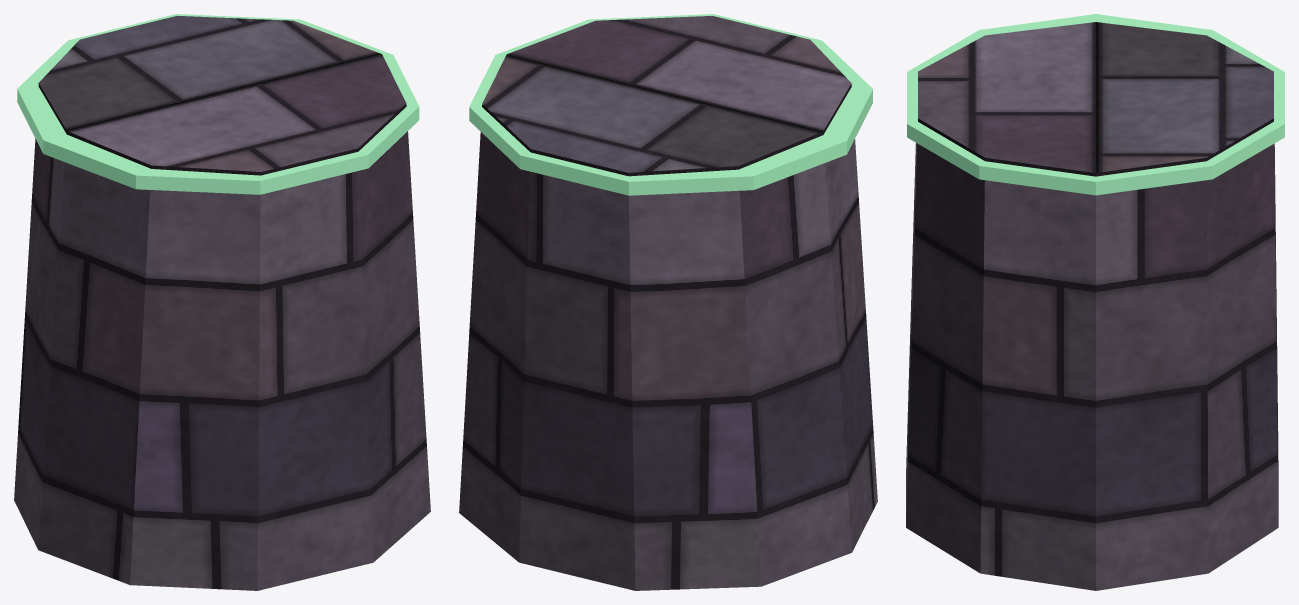
Rendered from dun_stone.glb.
3 renders of one model, left to right at view 1: azimuth 30°, elevation 25°; view 2: azimuth 150°, elevation 25°; view 3: azimuth 270°, elevation 25°, orthographic. The views are drawn at different scales.
Visible parts, largest first — view 1: dun_stone_dstone_0, dun_stone_moss_0; view 2: dun_stone_dstone_0, dun_stone_moss_0; view 3: dun_stone_dstone_0, dun_stone_moss_0.
Boxes of the visible parts, left/top/right/bottom form: dun_stone_dstone_0: left=14, top=16, right=430, bottom=590; dun_stone_moss_0: left=17, top=14, right=419, bottom=194; dun_stone_dstone_0: left=459, top=16, right=877, bottom=590; dun_stone_moss_0: left=469, top=14, right=872, bottom=195; dun_stone_dstone_0: left=906, top=22, right=1278, bottom=590; dun_stone_moss_0: left=907, top=14, right=1284, bottom=195.
Bounding box in the file's own units: 1.69 × 1.8 × 1.53.
Materials: 2 (1 with a texture image).
